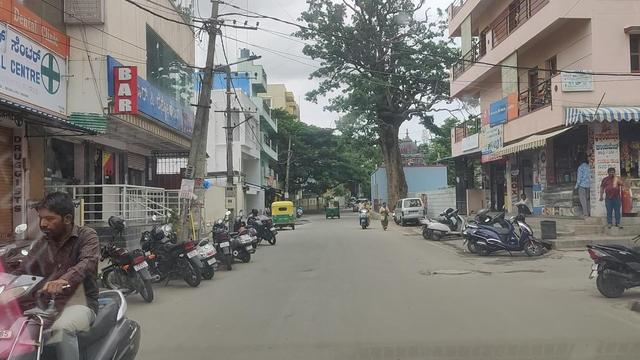LMV: (0, 193, 137, 360)
RoadDamages: (416, 262, 491, 284)
